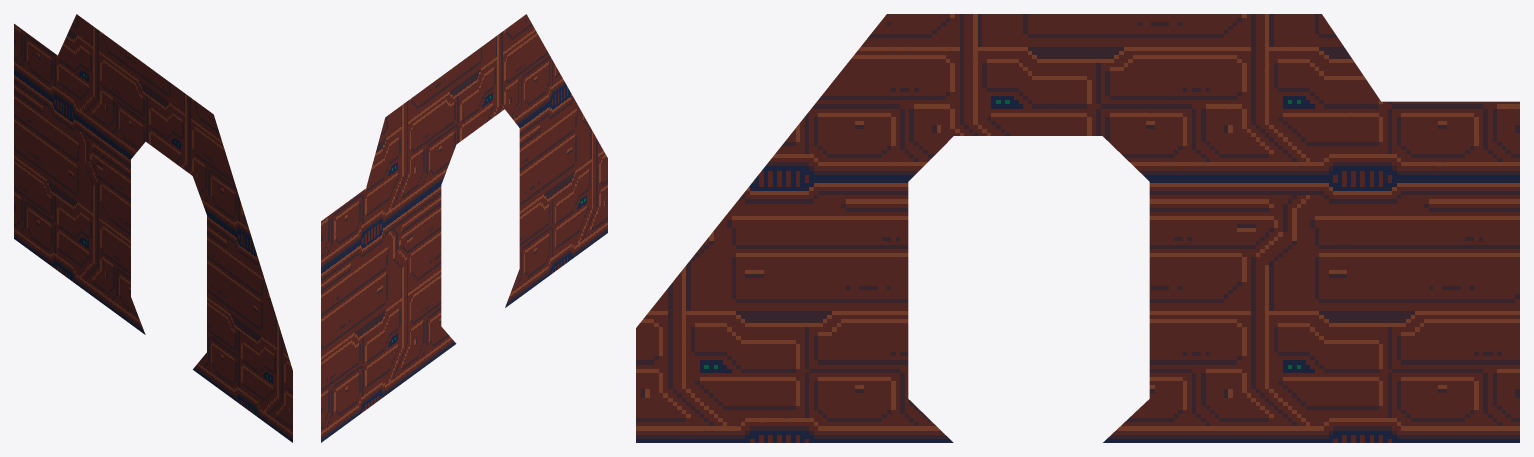
The model's file is Wall_L.fbx.
3 renders of one model, left to right at view 1: azimuth 30°, elevation 25°; view 2: azimuth 150°, elevation 25°; view 3: azimuth 270°, elevation 25°, orthographic. The views are drawn at different scales.
Visible parts, largest first — view 1: Wall_L.001; view 2: Wall_L.001; view 3: Wall_L.001.
Part boxes in pixels (x1,y1,x2,y2): Wall_L.001: (14, 14, 292, 442); Wall_L.001: (321, 14, 607, 442); Wall_L.001: (636, 14, 1519, 442).
Size of the model in its own units: 0 by 427 by 798.
